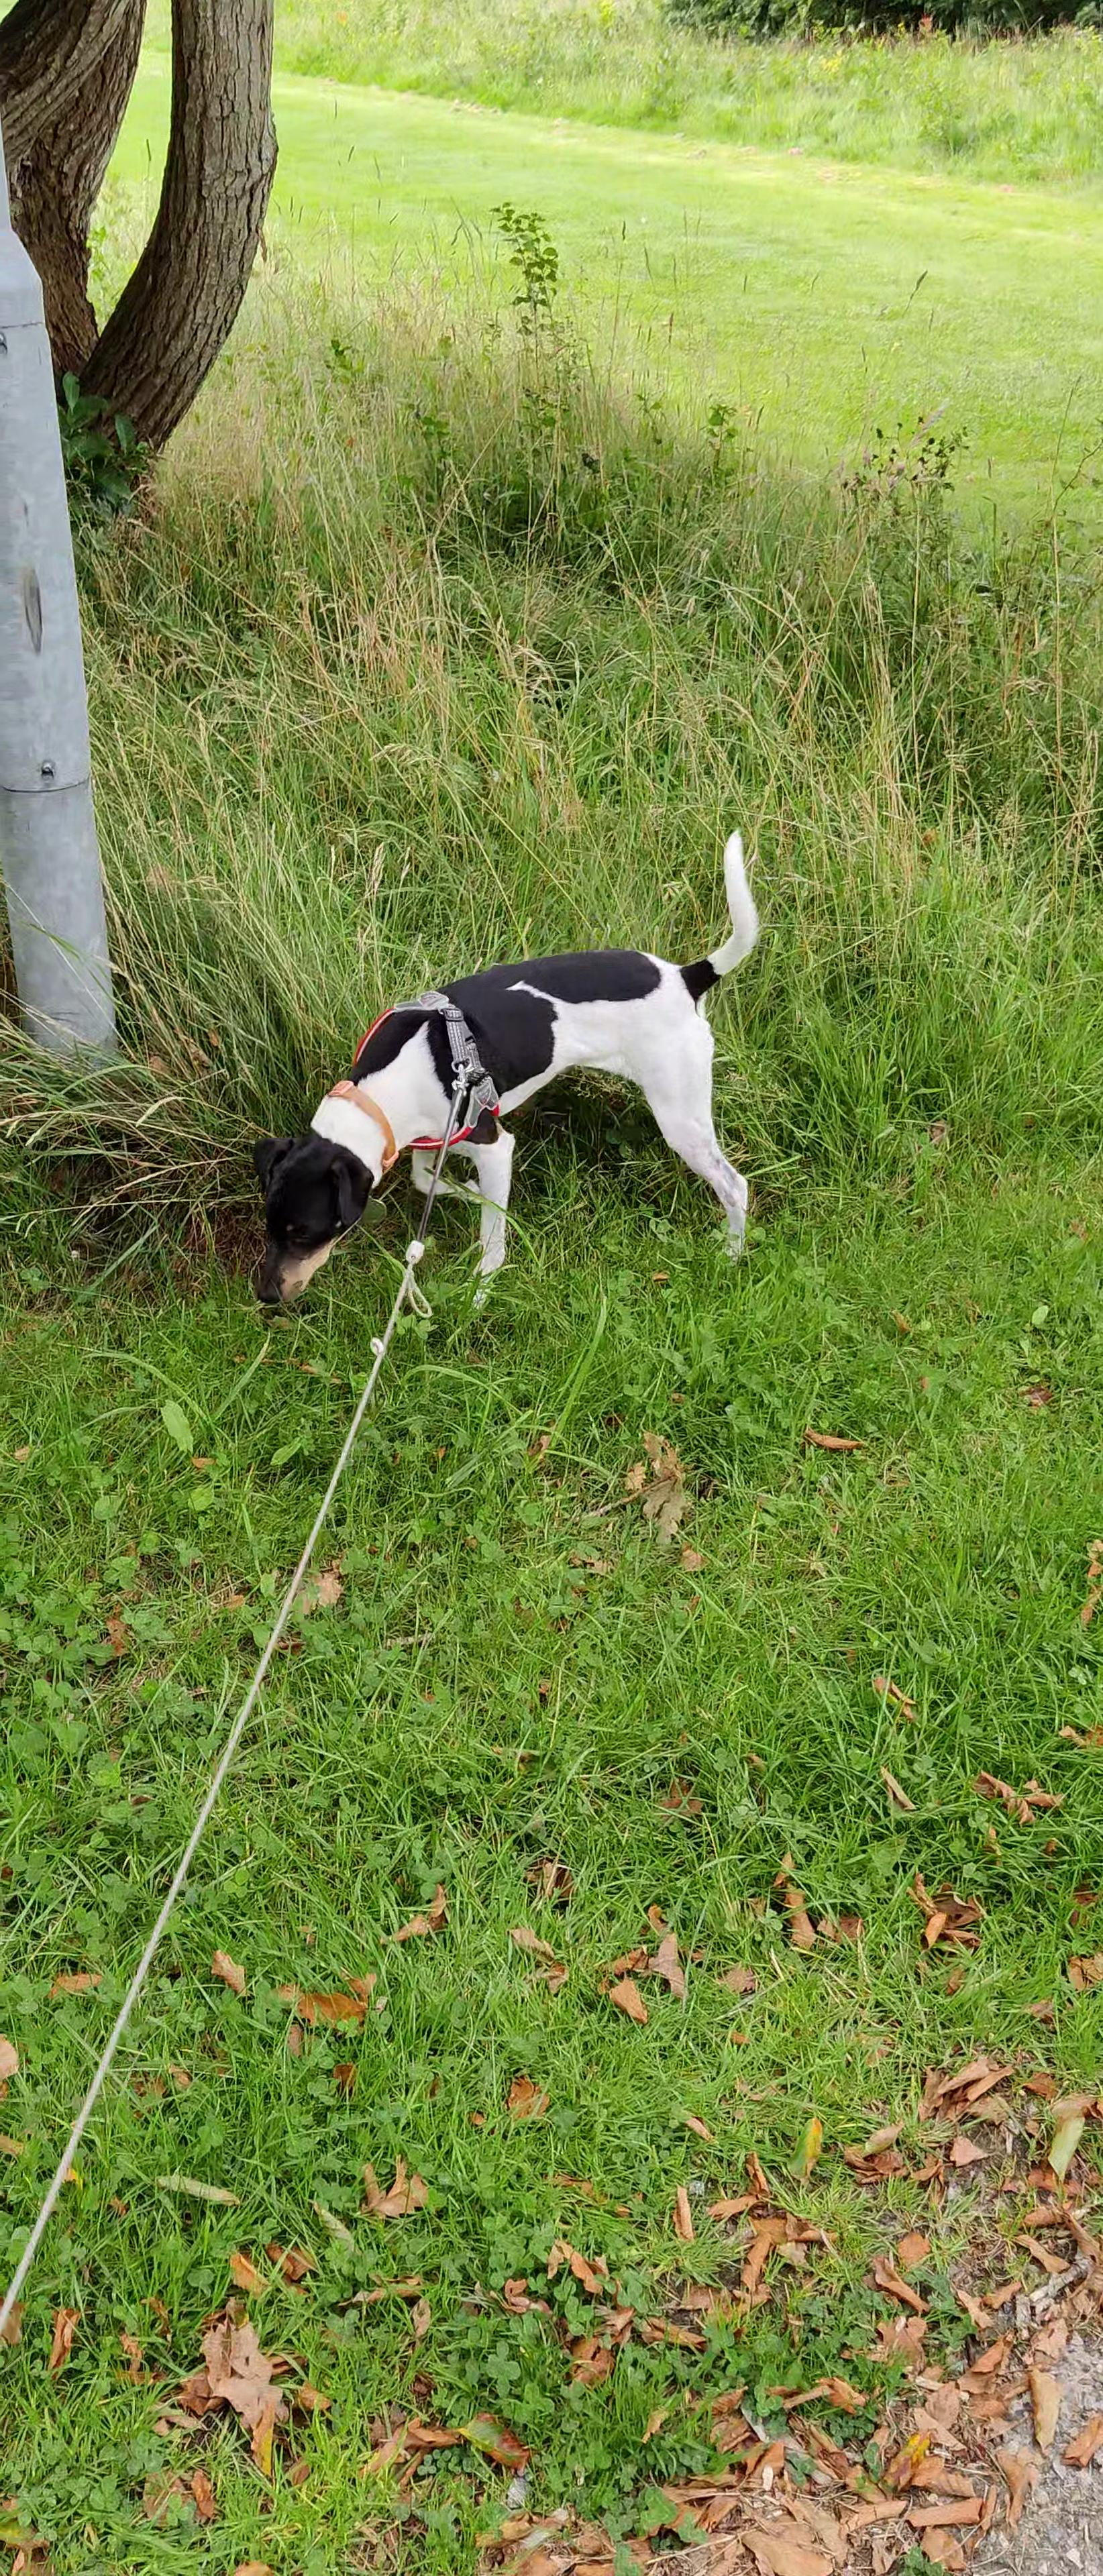Dog: (248, 820, 766, 1314)
